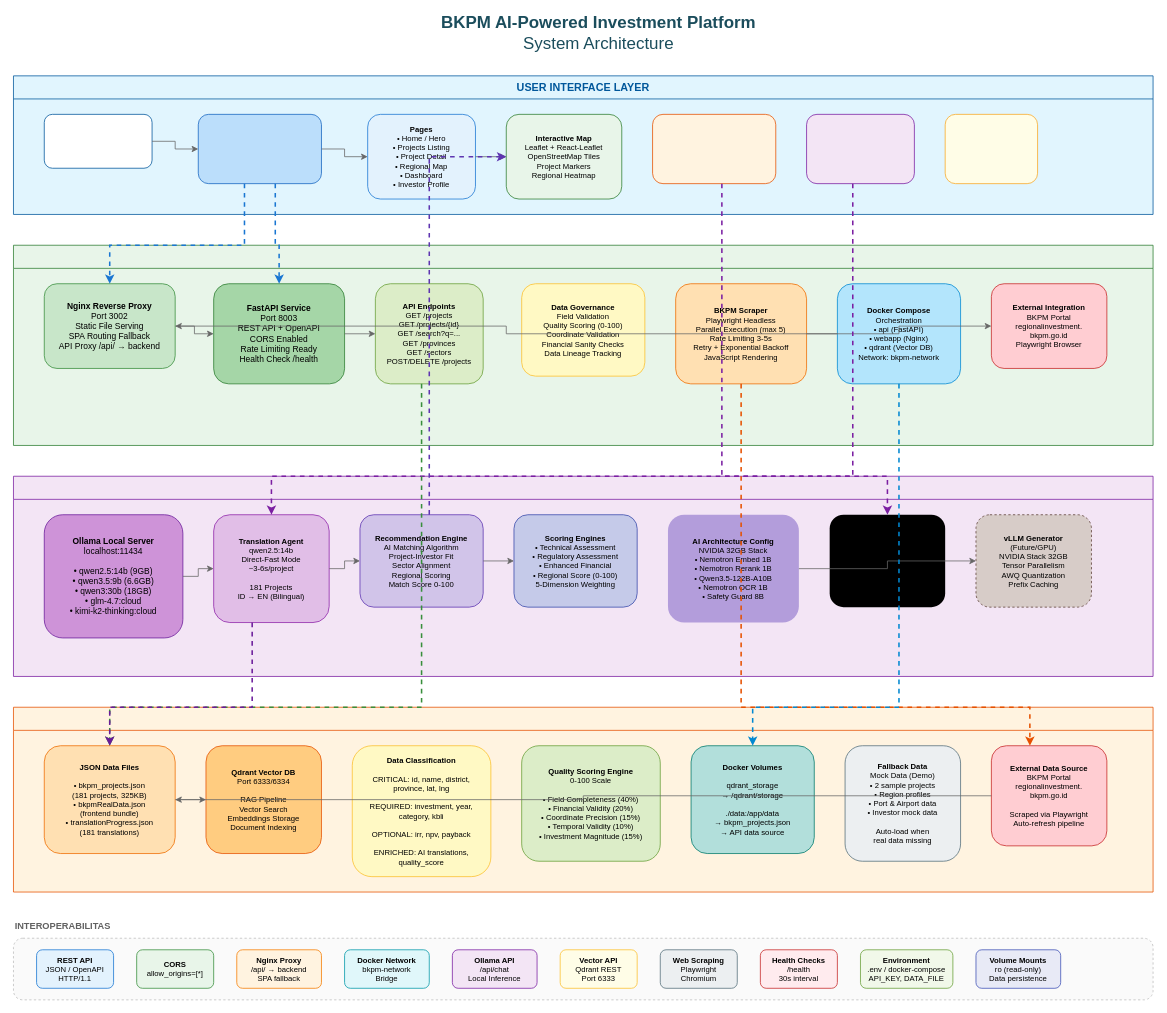
This 1167x1013 diagram has some shape labels left out. Each missing label, with the box of its shape:
AI SOLUTION LAYER: (13, 475, 1153, 676)
DATA LAYER: (13, 706, 1153, 892)
I18n / Bilingual ID ↔ EN LanguageContext Translation Toggle: (806, 114, 914, 184)
Legal Document Chatbot AI-Powered Q&A Investment Law Regulatory Guidance: (652, 114, 776, 184)
localStorage User Preferences Language Setting Session Cache: (944, 114, 1038, 184)
PLATFORM SERVICE LAYER: (13, 244, 1153, 445)
React SPA Vite + Tailwind CSS shadcn/ui Components Framer Motion: (198, 114, 321, 184)
Web Browser Chrome / Firefox / Safari: (44, 114, 152, 168)
